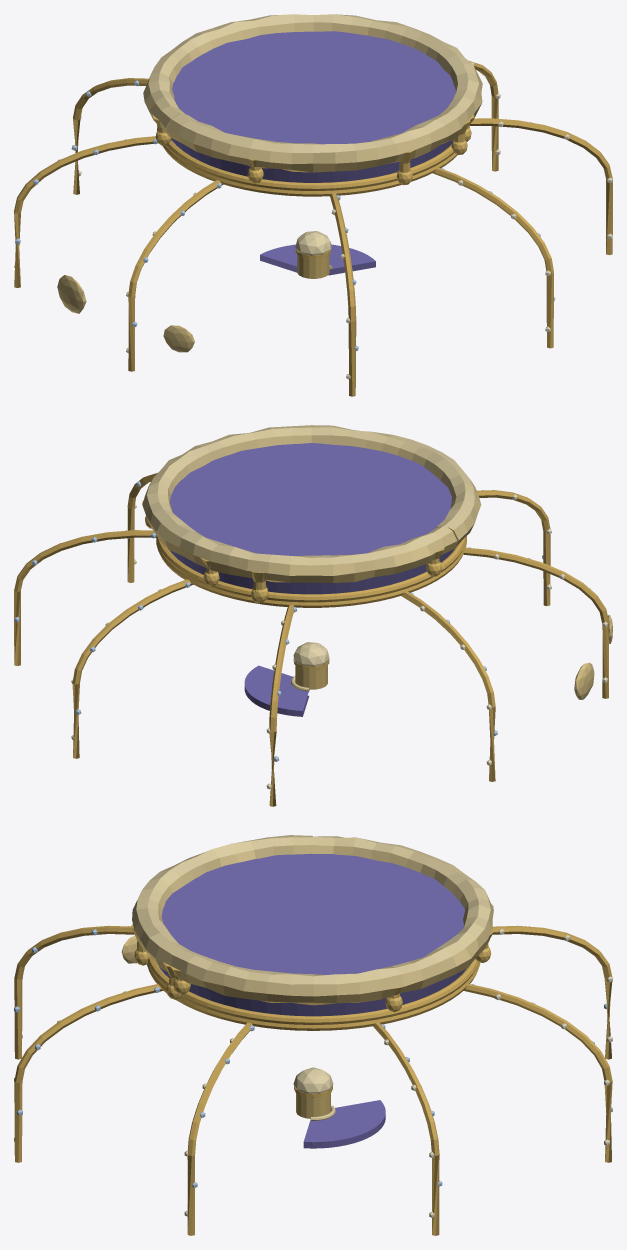
File: goo_jar_trim_2_top@starlight.fbx
3 renders of one model, top to bottom at view 1: azimuth 30°, elevation 25°; view 2: azimuth 150°, elevation 25°; view 3: azimuth 270°, elevation 25°, orthographic. The views are drawn at different scales.
Parts seen in each view (by area): view 1: goo_jar_trim_2_top; view 2: goo_jar_trim_2_top; view 3: goo_jar_trim_2_top.
Part boxes in pixels (left/top/right/bottom): goo_jar_trim_2_top: left=14, top=14, right=612, bottom=396; goo_jar_trim_2_top: left=14, top=425, right=612, bottom=806; goo_jar_trim_2_top: left=14, top=835, right=612, bottom=1235.
Size of the model in its own units: 53.13 by 20.05 by 50.98.
